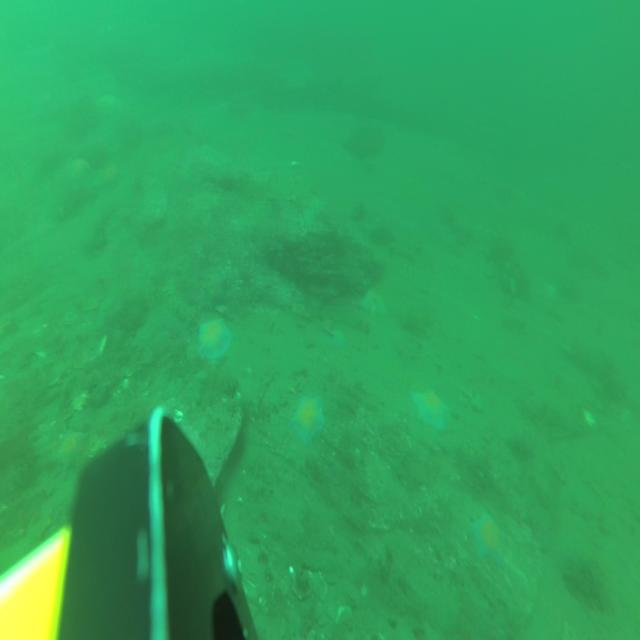holothurian: (90, 434, 106, 487)
starfish: (472, 508, 509, 566), (54, 424, 88, 479), (293, 394, 324, 445), (412, 390, 449, 431), (198, 318, 231, 362), (67, 157, 90, 186), (101, 163, 122, 192)
